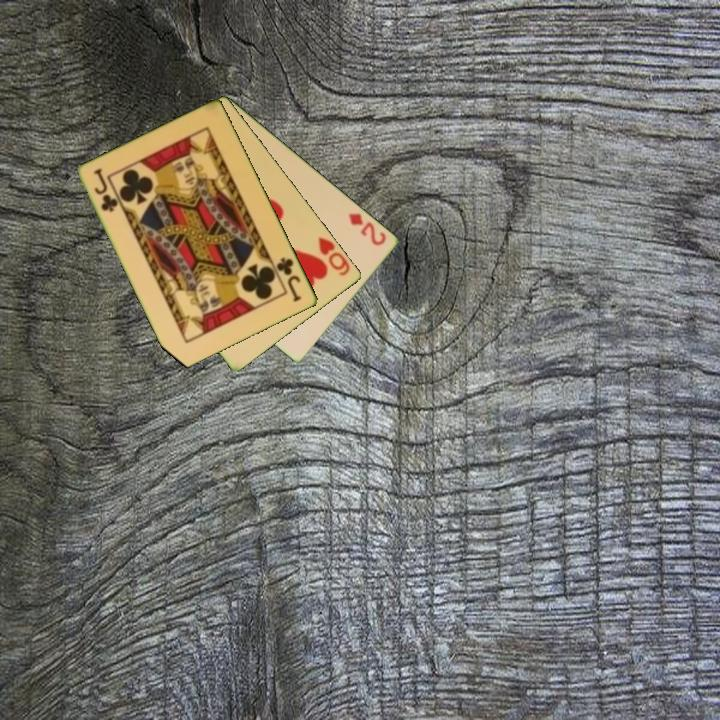2d: (345, 209, 390, 248)
6h: (315, 233, 353, 279)
Jc: (273, 254, 305, 305), (90, 165, 121, 215)
